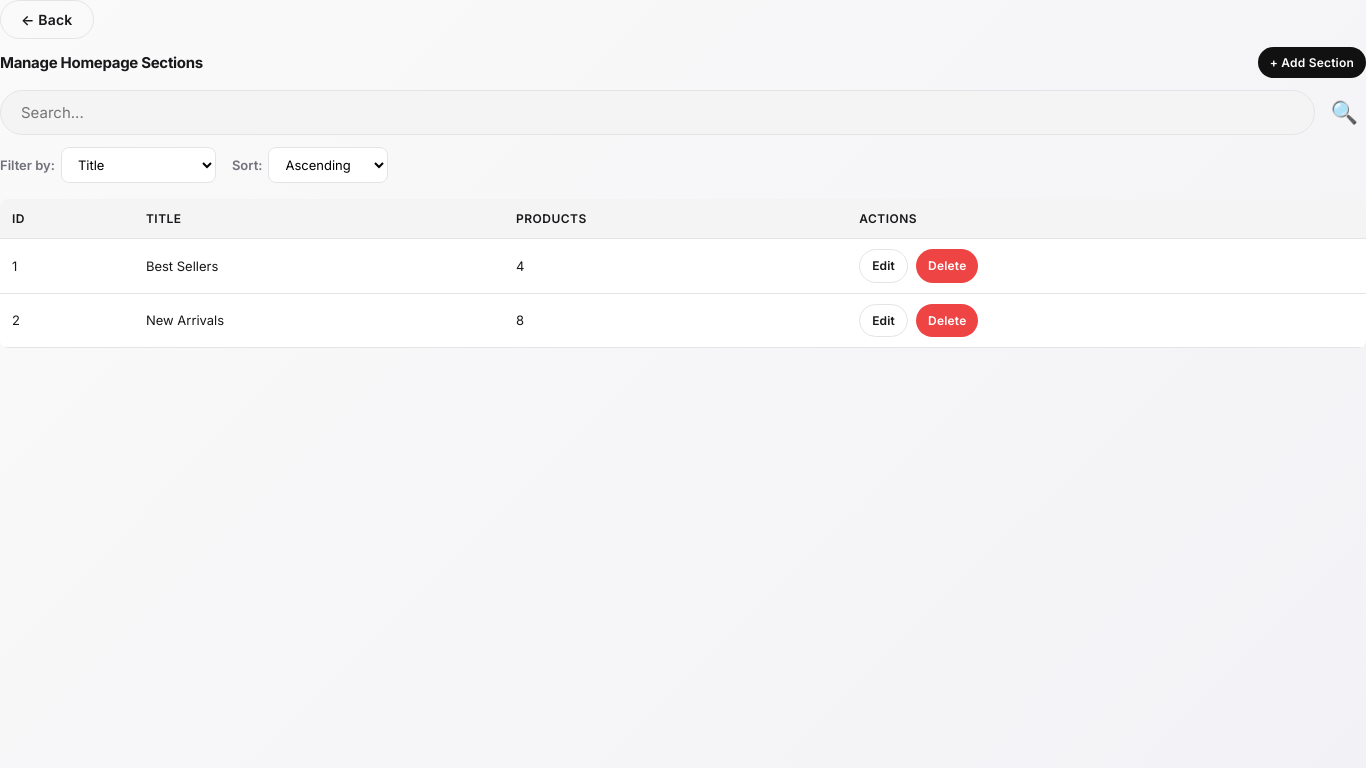
Test: AdminHomeSections › Delete › should show error when delete fails
Click the button "Delete" in the row of "Best Sellers" at (947, 266), box [916,249,978,283]
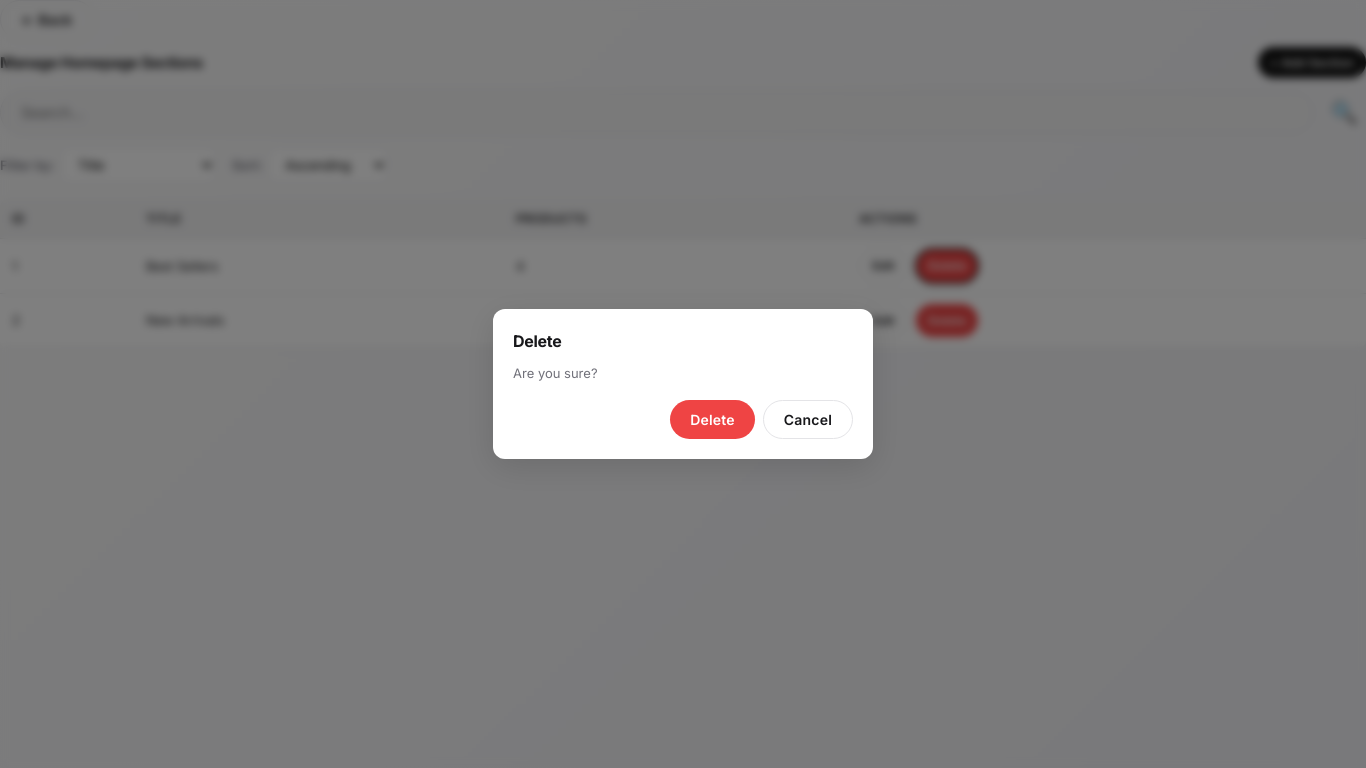
Click the button with class "btn-danger" showing "Delete" at (712, 419), box [670,400,755,439]
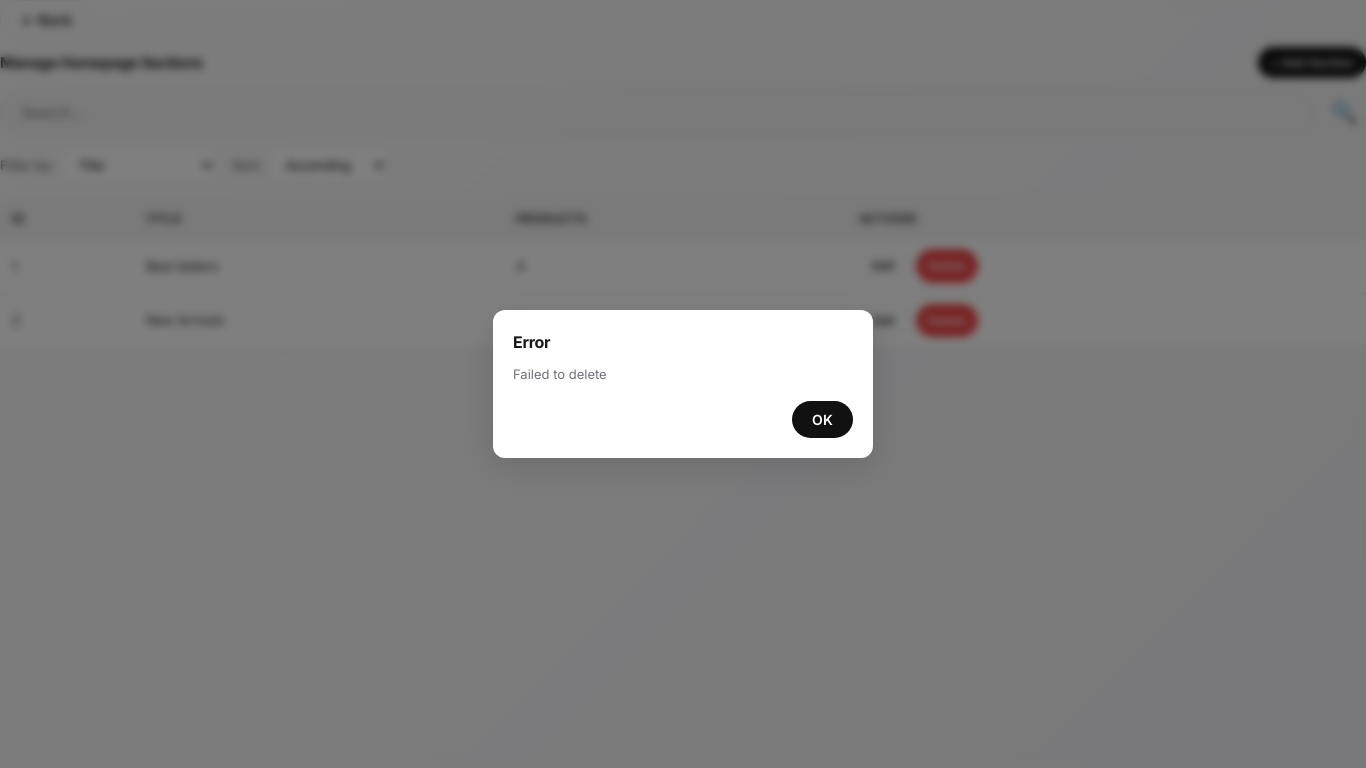
Expected: the text "Failed to delete" is shown, [513,366,607,382]
